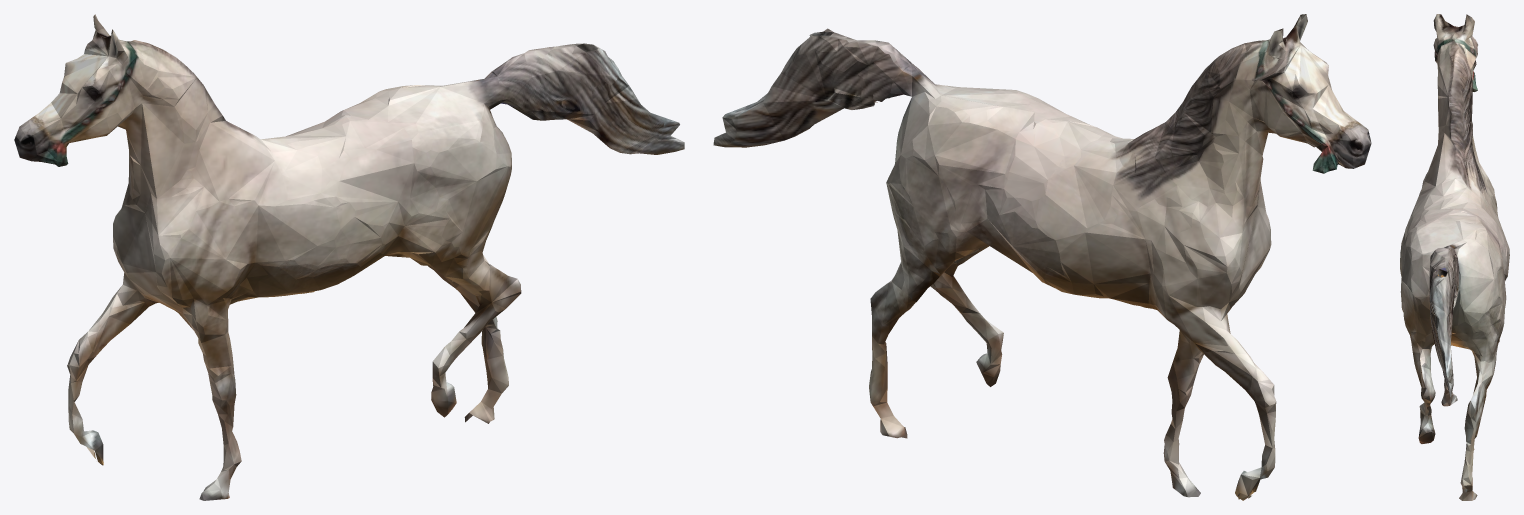
Rendered from Horse.fbx.
3 views of the same model, side by side, from view 1: azimuth 30°, elevation 25°; view 2: azimuth 150°, elevation 25°; view 3: azimuth 270°, elevation 25° (orthographic). The views are drawn at different scales.
Visible parts, largest first — view 1: Horse; view 2: Horse; view 3: Horse.
Part boxes in pixels (<box>): Horse: <box>14,14,684,500</box>; Horse: <box>713,14,1371,500</box>; Horse: <box>1400,14,1509,500</box>.
Size of the model in its own units: 377 by 272 by 77.11.
Materials: 1 (1 with a texture image).
